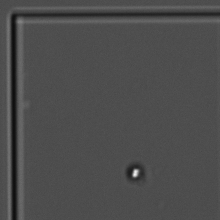Living Cell: (122, 162, 147, 182)
